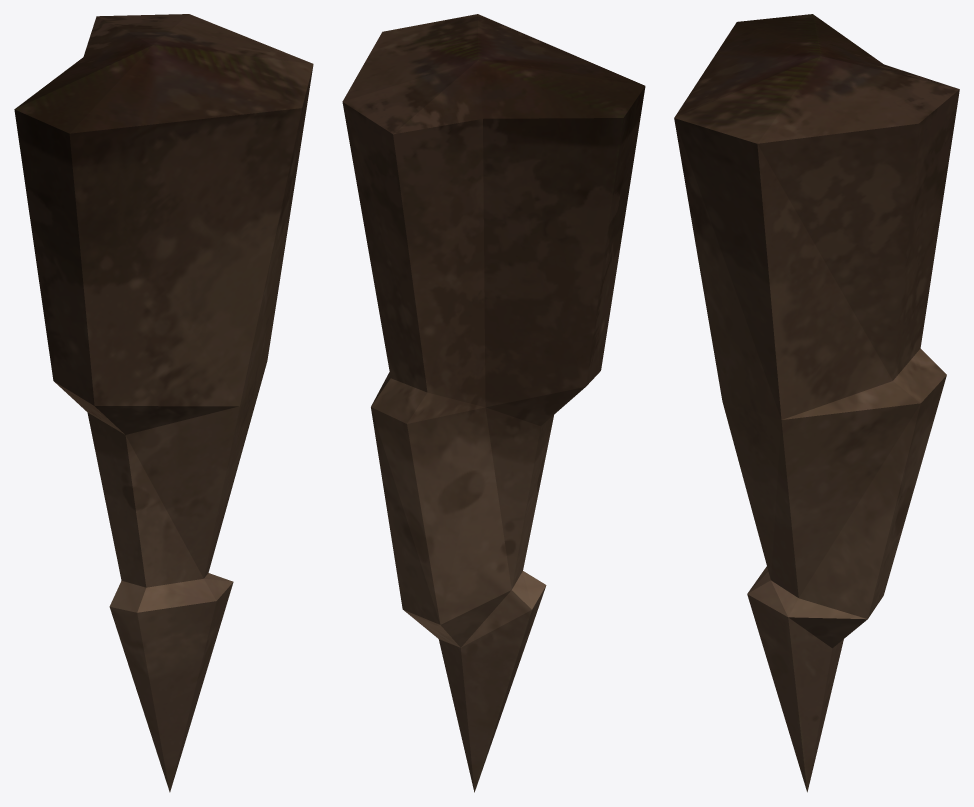
File: rock_stalactite_01.fbx
3 renders of one model, left to right at view 1: azimuth 30°, elevation 25°; view 2: azimuth 150°, elevation 25°; view 3: azimuth 270°, elevation 25°, orthographic.
Visible parts, largest first — view 1: rock_stalactite_01; view 2: rock_stalactite_01; view 3: rock_stalactite_01.
Part boxes in pixels (x1,y1,x2,y2): rock_stalactite_01: [14, 14, 313, 792]; rock_stalactite_01: [342, 14, 645, 792]; rock_stalactite_01: [674, 14, 959, 792].
Size of the model in its own units: 224 by 588 by 208.
1 material, 1 textured.
